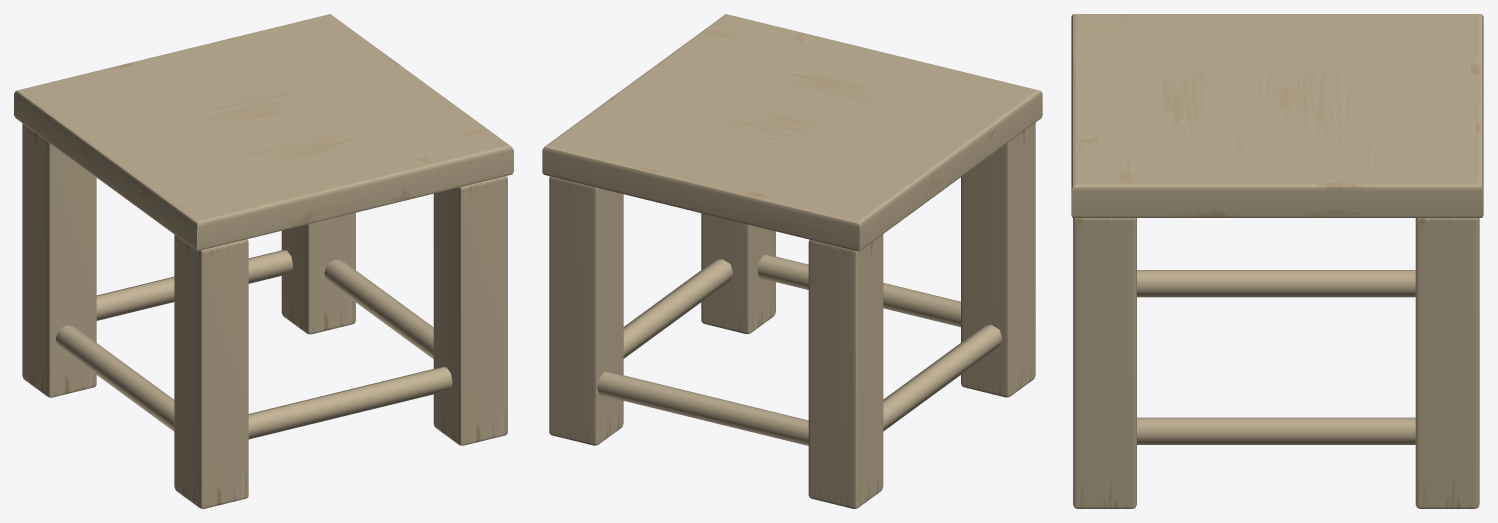
File: Stoolset_Square_Scaled.fbx
3 views of the same model, side by side, from view 1: azimuth 30°, elevation 25°; view 2: azimuth 150°, elevation 25°; view 3: azimuth 270°, elevation 25° (orthographic). The views are drawn at different scales.
Visible parts, largest first — view 1: Stool_Top, Stool_Leg4, Stool_Leg1, Stool_Leg3, Stool_Leg2, Stool_Connector4, Stool_Connector2, Stool_Connector1, Stool_Connector3; view 2: Stool_Top, Stool_Leg3, Stool_Leg2, Stool_Leg4, Stool_Leg1, Stool_Connector3, Stool_Connector2, Stool_Connector1, Stool_Connector4; view 3: Stool_Top, Stool_Leg2, Stool_Leg1, Stool_Connector1, Stool_Connector2.
Boxes of the visible parts, left/top/right/bottom form: Stool_Top: left=14, top=14, right=513, bottom=251; Stool_Leg4: left=174, top=234, right=248, bottom=508; Stool_Leg1: left=433, top=176, right=507, bottom=445; Stool_Leg3: left=22, top=123, right=96, bottom=397; Stool_Leg2: left=281, top=212, right=355, bottom=334; Stool_Connector4: left=248, top=367, right=452, bottom=439; Stool_Connector2: left=55, top=325, right=174, bottom=431; Stool_Connector1: left=324, top=259, right=433, bottom=358; Stool_Connector3: left=96, top=250, right=292, bottom=320; Stool_Top: left=542, top=14, right=1042, bottom=251; Stool_Leg3: left=808, top=234, right=883, bottom=508; Stool_Leg2: left=549, top=176, right=623, bottom=445; Stool_Leg4: left=961, top=123, right=1035, bottom=397; Stool_Leg1: left=701, top=213, right=775, bottom=334; Stool_Connector3: left=597, top=371, right=808, bottom=445; Stool_Connector2: left=883, top=325, right=1002, bottom=431; Stool_Connector1: left=623, top=259, right=732, bottom=358; Stool_Connector4: left=757, top=254, right=960, bottom=327; Stool_Top: left=1071, top=14, right=1483, bottom=217; Stool_Leg2: left=1415, top=218, right=1479, bottom=508; Stool_Leg1: left=1073, top=218, right=1136, bottom=508; Stool_Connector1: left=1137, top=417, right=1415, bottom=444; Stool_Connector2: left=1137, top=270, right=1415, bottom=297.
Bounding box in the file's own units: 11.86 × 10.38 × 11.86.
